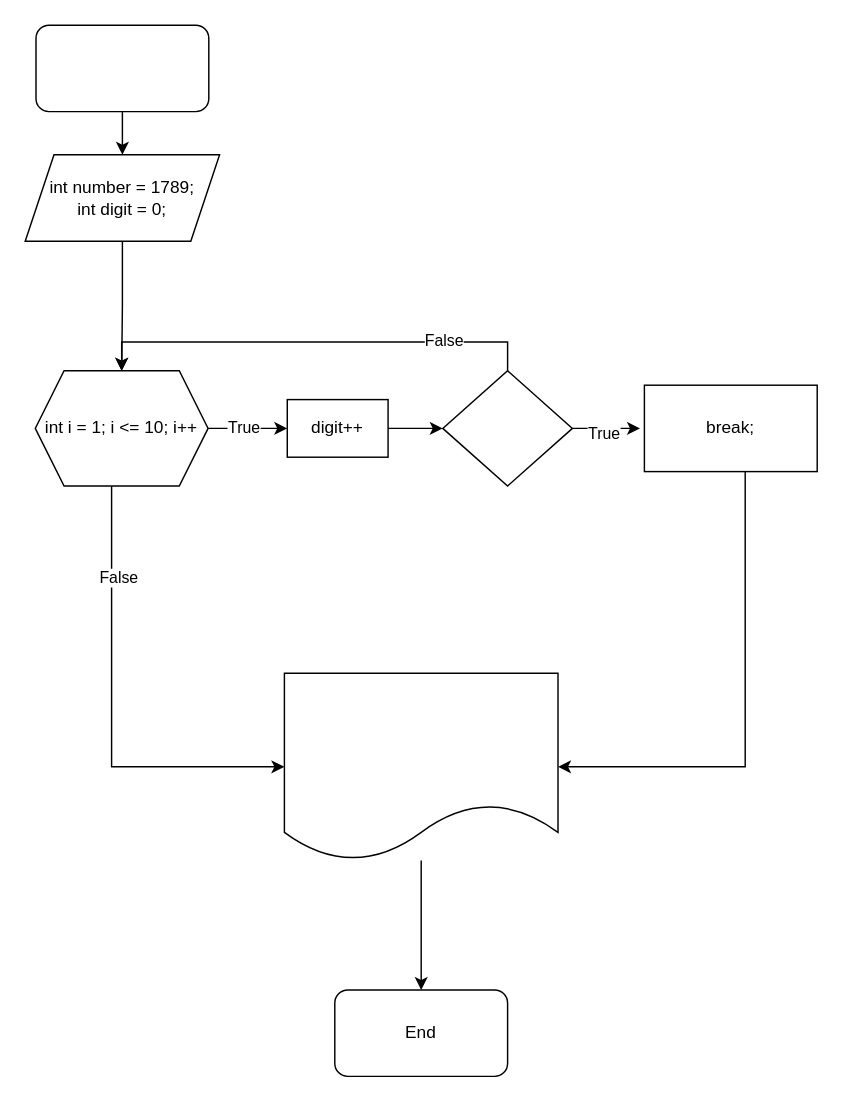
The diagram is 842 pixels wide and 1102 high, and some of its shapes have lost their labels. Each missing label, with the box of its shape:
Eded {digit} mertebelidir: (283, 672, 558, 860)
number < 10: (441, 369, 572, 486)
Start: (35, 24, 209, 112)
